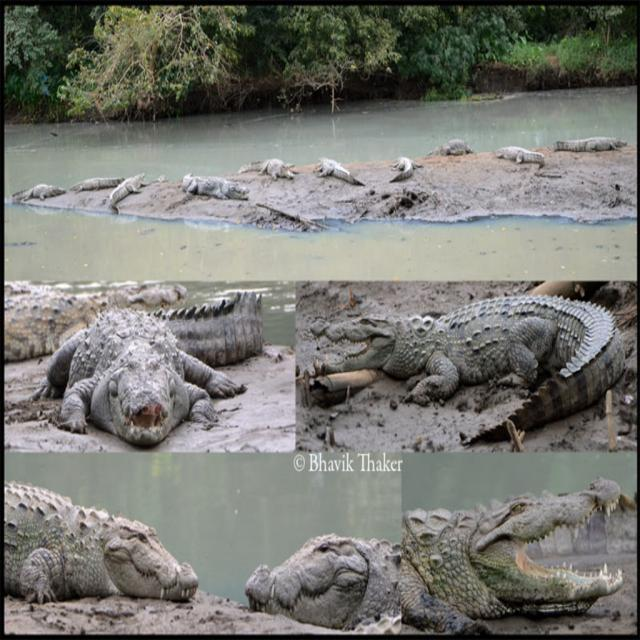crocodile: (309, 286, 637, 448), (0, 281, 300, 453), (397, 474, 637, 634), (3, 476, 201, 607), (243, 529, 394, 633)
